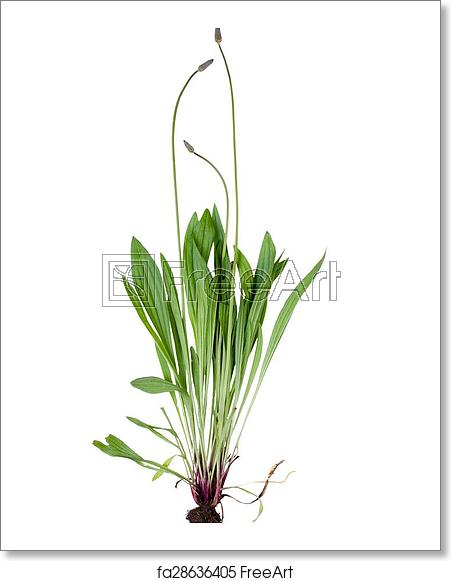buckhorn plantain: (122, 22, 302, 485)
